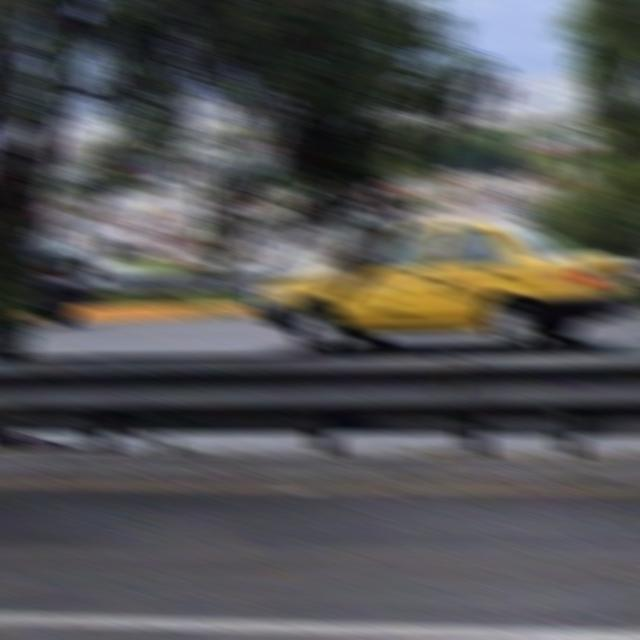Taxi: (256, 219, 637, 354)
